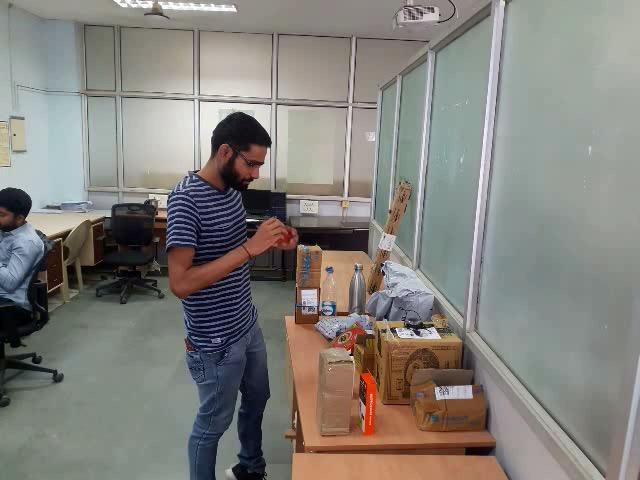Shoplifting: (158, 76, 320, 480)
